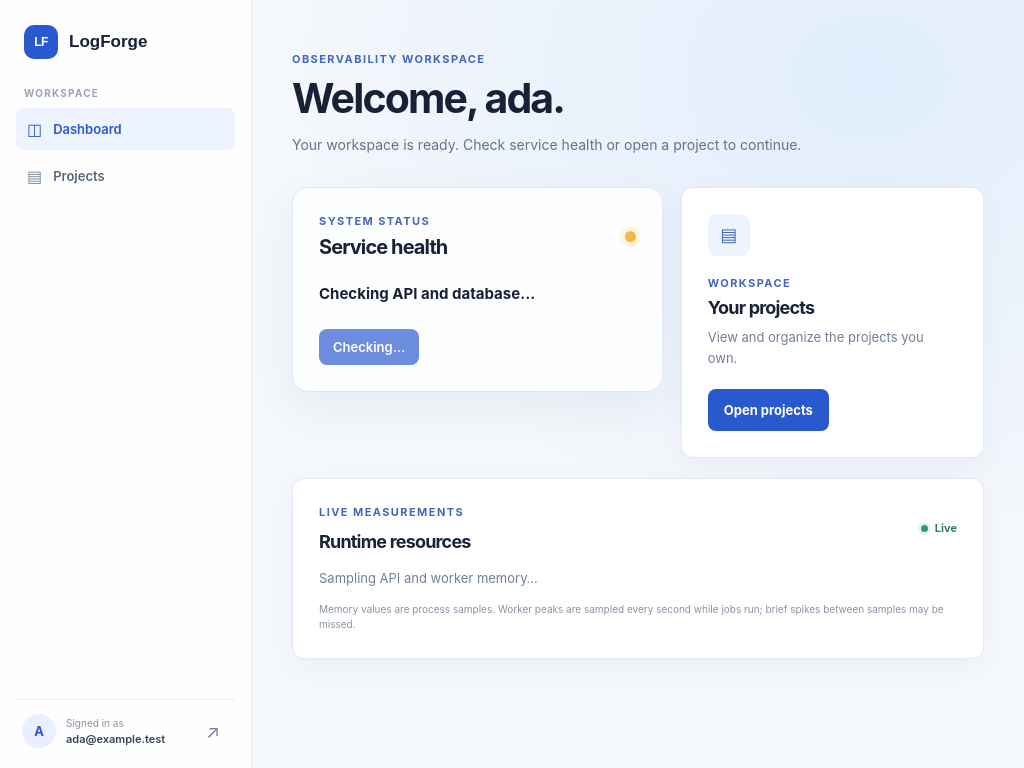
it: browser authentication › clears the token and redirects after logout, even if revocation cannot be confirmed
This screenshot has width=1024, height=768.
Expected: the heading "Welcome, ada." is shown, x1=292 y1=73 x2=564 y2=123
Click the button named "Log out".
click(213, 731)  # box x1=197 y1=715 x2=229 y2=747
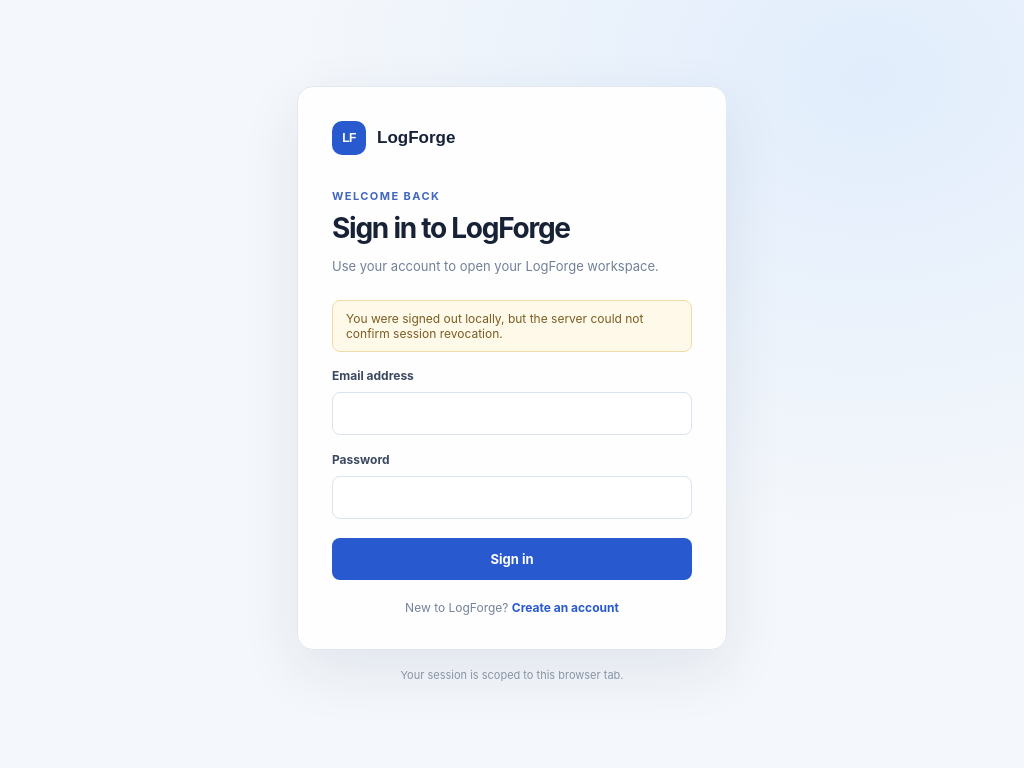
Expected: the heading "Sign in to LogForge" is shown, x1=332 y1=211 x2=570 y2=245
Expected: the message shows "signed out locally", x1=346 y1=311 x2=644 y2=341
Expected: the heading "Welcome, ada." is gone
